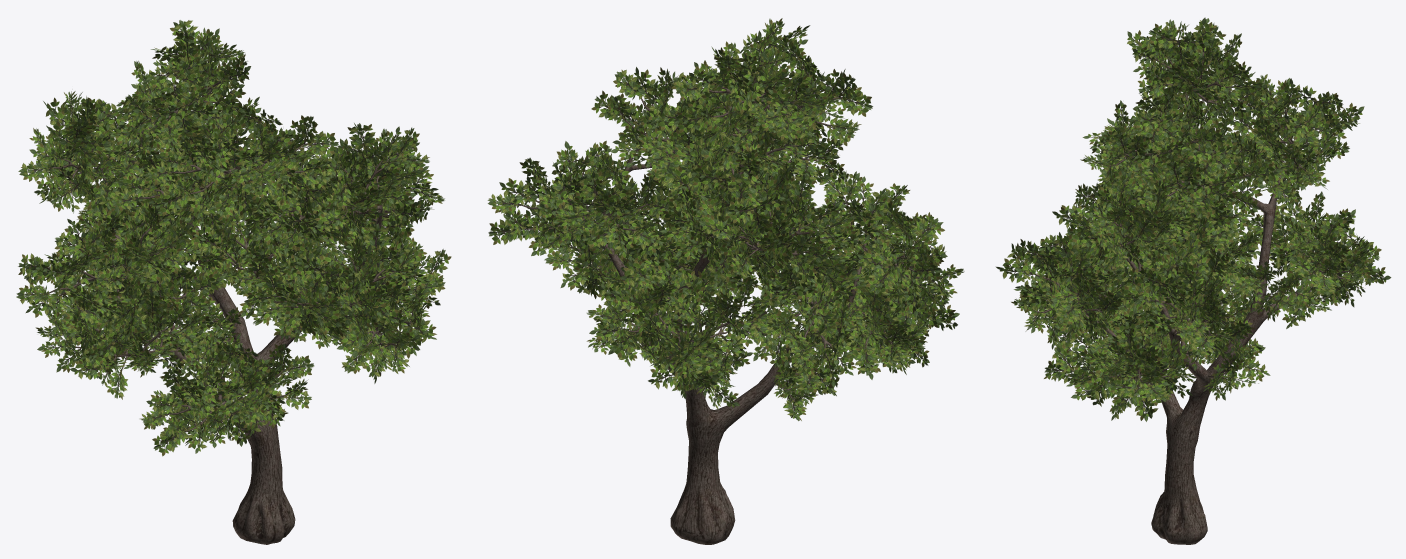
Rendered from yard_tree.glb.
The picture shows the model from 3 angles, left to right: view 1: azimuth 30°, elevation 25°; view 2: azimuth 150°, elevation 25°; view 3: azimuth 270°, elevation 25°; orthographic projection. The views are drawn at different scales.
Visible parts, largest first — view 1: crown merged_normal leaves_0, br_low_trunk_0; view 2: crown merged_normal leaves_0, br_low_trunk_0; view 3: crown merged_normal leaves_0, br_low_trunk_0.
Part boxes in pixels (x1,y1,x2,y2): crown merged_normal leaves_0: [16, 20, 451, 456]; br_low_trunk_0: [47, 57, 414, 544]; crown merged_normal leaves_0: [487, 18, 964, 420]; br_low_trunk_0: [521, 54, 932, 544]; crown merged_normal leaves_0: [996, 17, 1391, 421]; br_low_trunk_0: [1031, 50, 1349, 544].
Bounding box in the file's own units: 14.35 × 16.05 × 11.72.
2 materials, 2 textured.
